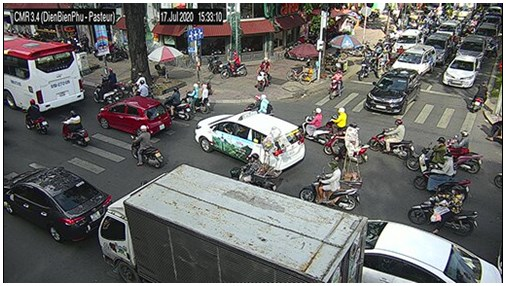xe_buyt: (4, 35, 84, 112)
xe_hoi: (364, 220, 501, 284), (5, 169, 112, 244), (195, 111, 305, 169), (97, 98, 172, 134), (366, 69, 422, 114), (392, 45, 436, 75), (443, 55, 479, 88), (456, 36, 485, 63), (426, 32, 452, 62), (392, 29, 421, 50)
xe_may: (408, 184, 479, 237), (298, 156, 362, 211), (414, 152, 464, 192), (406, 136, 456, 175), (367, 118, 414, 159), (230, 153, 281, 190), (324, 122, 369, 163), (446, 130, 484, 173), (131, 125, 163, 169), (297, 107, 330, 146), (61, 110, 90, 147), (162, 87, 191, 121), (24, 99, 50, 132), (185, 83, 210, 115), (469, 81, 488, 114), (245, 93, 272, 116), (127, 72, 151, 97), (326, 107, 349, 133), (103, 68, 125, 95), (95, 78, 115, 106), (328, 69, 343, 101), (358, 54, 371, 81), (376, 49, 389, 76), (486, 35, 499, 60), (133, 80, 151, 98)
xe_tai: (97, 163, 362, 283)
